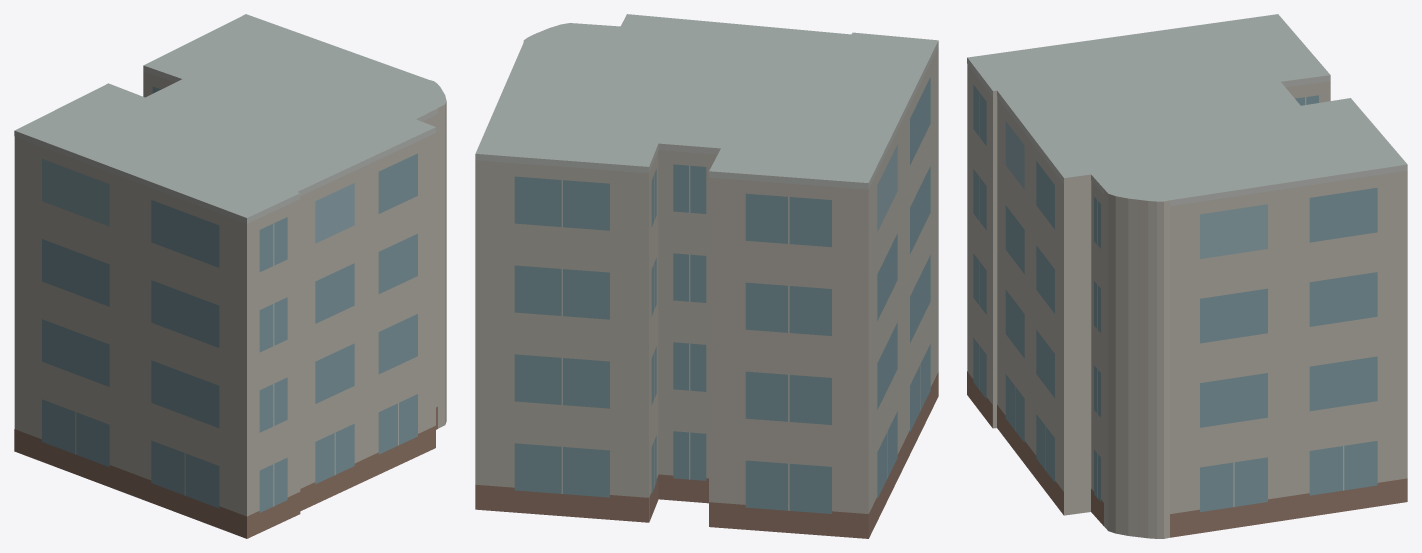
Rendered from survey-upis-32941451.glb.
3 renders of one model, left to right at view 1: azimuth 30°, elevation 25°; view 2: azimuth 150°, elevation 25°; view 3: azimuth 270°, elevation 25°, orthographic. The views are drawn at different scales.
Parts seen in each view (by area): view 1: survey-upis-32941451.tmp; view 2: survey-upis-32941451.tmp; view 3: survey-upis-32941451.tmp.
Boxes of the visible parts, left/top/right/bottom form: survey-upis-32941451.tmp: left=14, top=14, right=446, bottom=538; survey-upis-32941451.tmp: left=475, top=14, right=938, bottom=538; survey-upis-32941451.tmp: left=967, top=14, right=1407, bottom=538.
Bounding box in the file's own units: 16.15 × 13.55 × 16.04.
